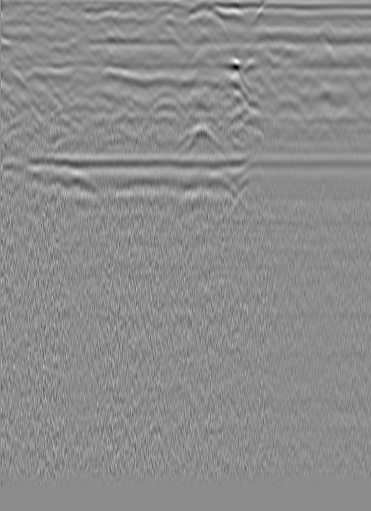가스: (0, 146, 370, 179)
